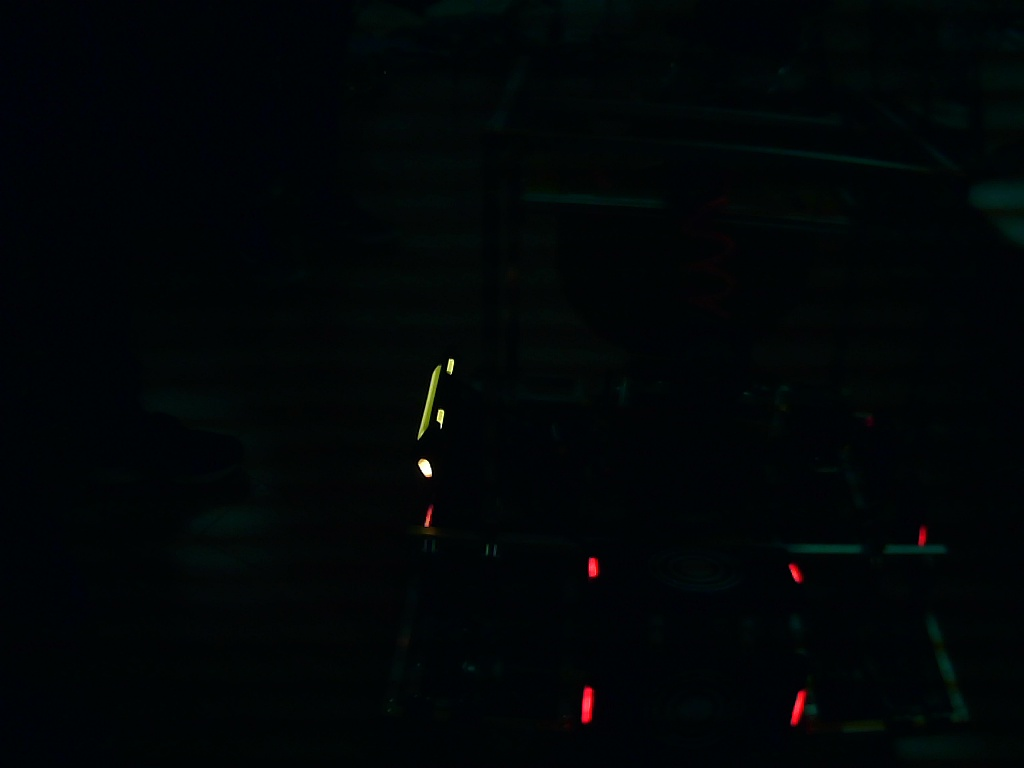lamp: (787, 685, 808, 729), (578, 685, 595, 725)
